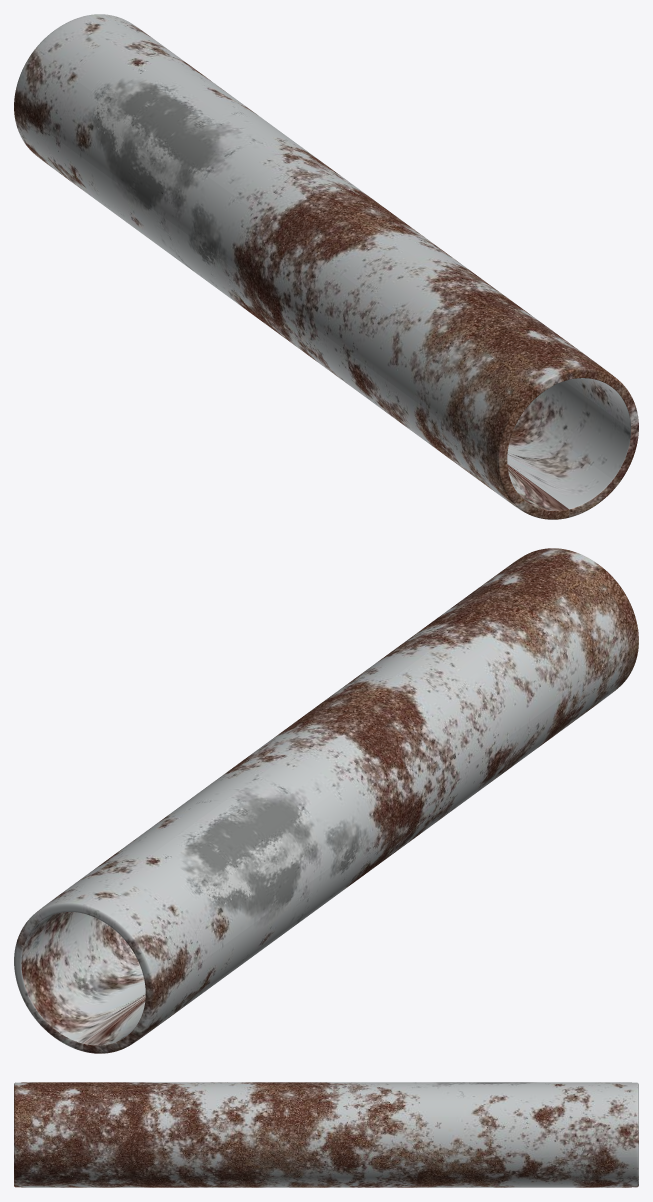
The model's file is rustyPipe.fbx.
The picture shows the model from 3 angles, top to bottom: view 1: azimuth 30°, elevation 25°; view 2: azimuth 150°, elevation 25°; view 3: azimuth 270°, elevation 25°; orthographic projection. The views are drawn at different scales.
Visible parts, largest first — view 1: base_pipe; view 2: base_pipe; view 3: base_pipe.
Boxes of the visible parts, x1,y1,x2,y2 form: base_pipe: (14,14,638,519); base_pipe: (14,548,638,1053); base_pipe: (14,1082,638,1187).
Bounding box in the file's own units: 2.04 × 2.04 × 12.06.
1 material, 1 textured.
